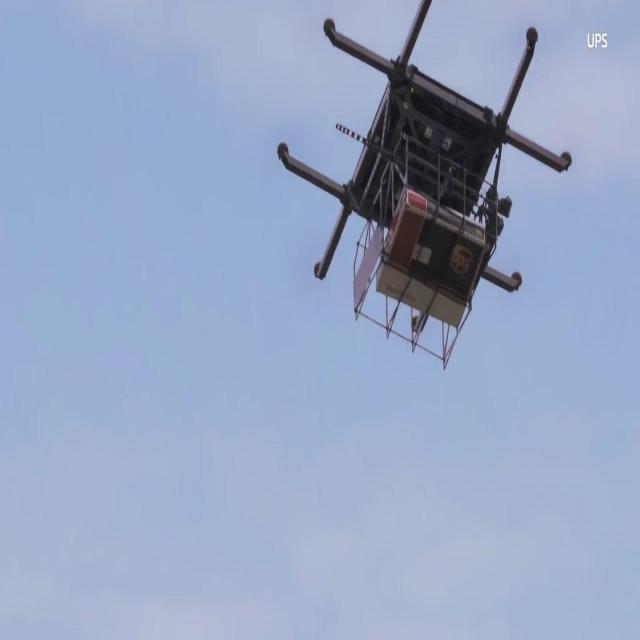drone: (276, 2, 574, 370)
